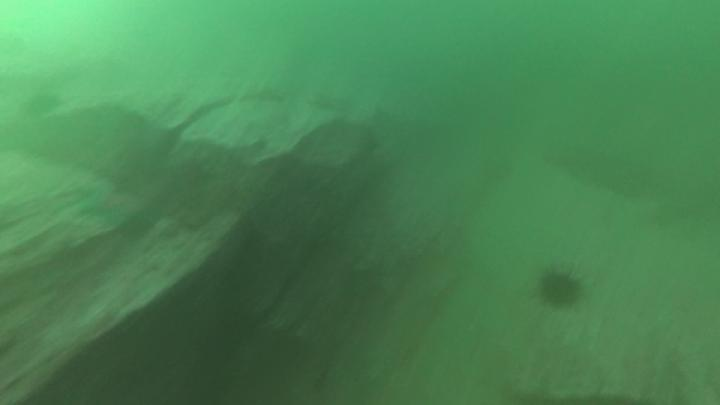echinus: (536, 266, 586, 313)
